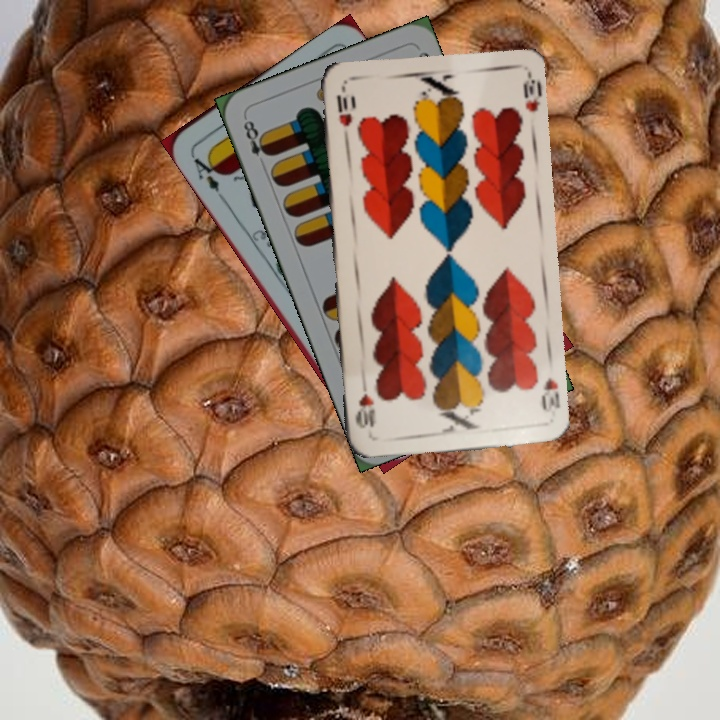E8: (239, 113, 273, 160)
EA: (186, 149, 224, 195)
H10: (333, 90, 355, 144), (537, 373, 562, 419)
